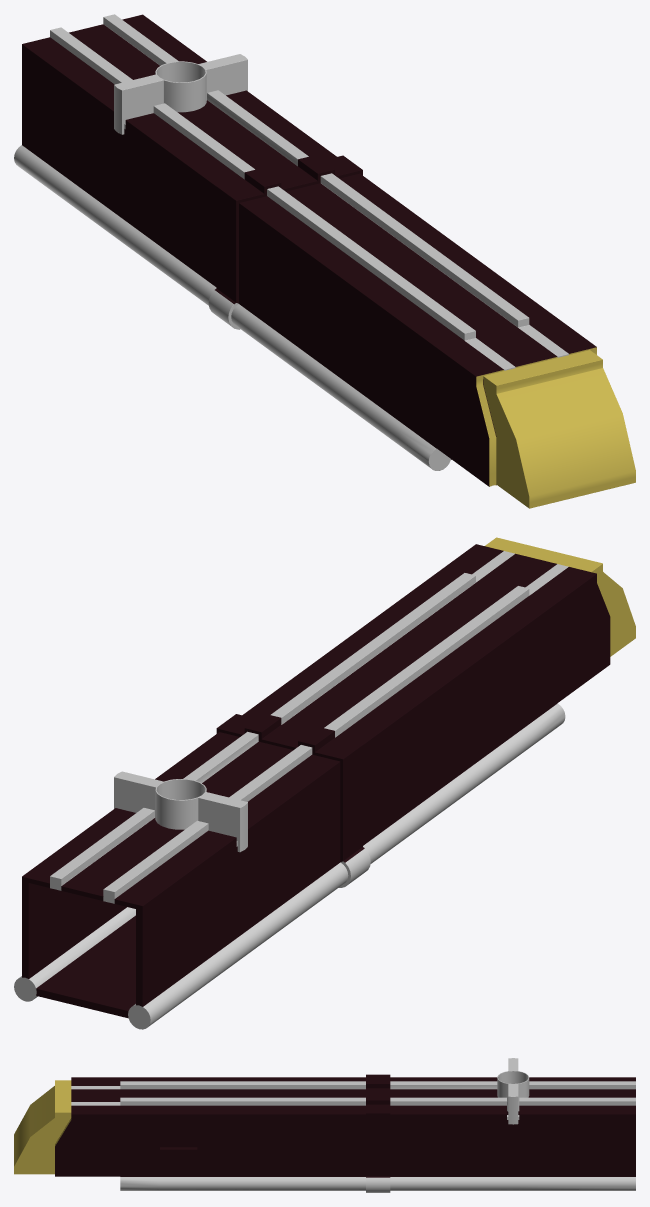
File: Train.fbx
3 views of the same model, one above another, from view 1: azimuth 30°, elevation 25°; view 2: azimuth 150°, elevation 25°; view 3: azimuth 270°, elevation 25° (orthographic). The views are drawn at different scales.
Visible parts, largest first — view 1: Locomotora (×3); view 2: Locomotora (×3); view 3: Locomotora (×3), Locomotora.001.
Part boxes in pixels (x1,y1,x2,y2): Locomotora (×3): (14,14,635,508); Locomotora (×3): (14,537,635,1029); Locomotora (×3): (14,1058,635,1192); Locomotora.001: (160,1147,197,1170).
Size of the model in its own units: 1251 by 1312 by 7600.
